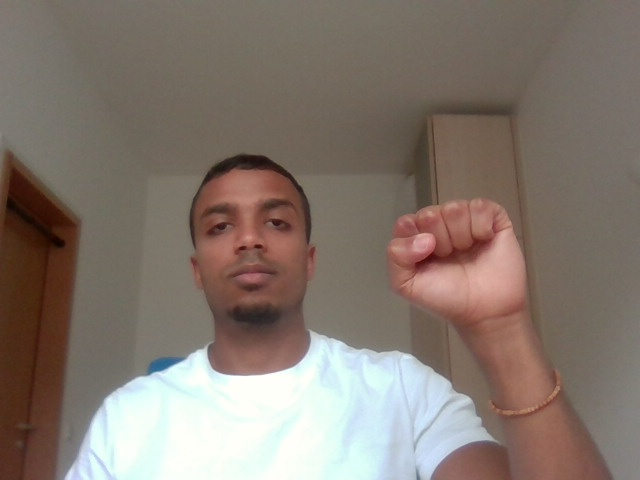neutral: (360, 188, 565, 344)
